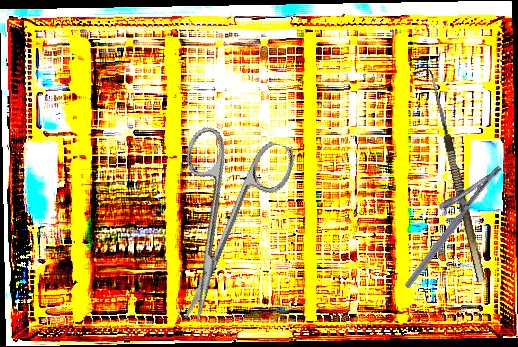Hook Surgical: (416, 66, 486, 286)
Iris Scissors: (138, 118, 298, 335)
Needle Holder: (386, 151, 504, 290)
